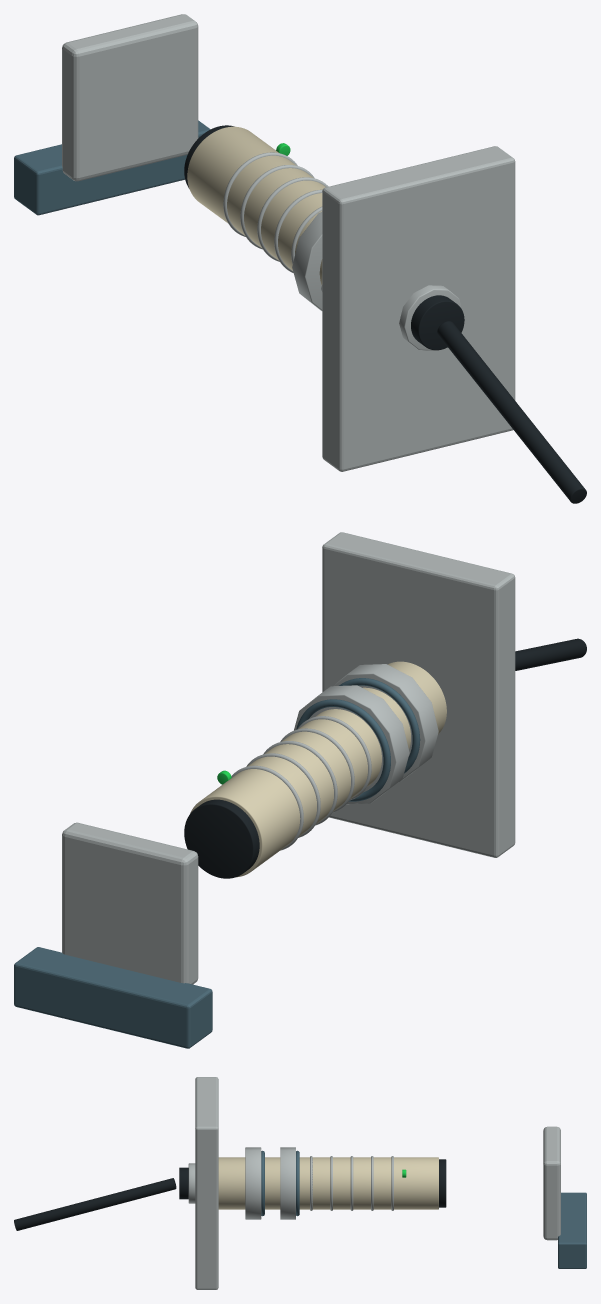
File: inductive_proximity_sensor_m18.glb
The picture shows the model from 3 angles, top to bottom: view 1: azimuth 30°, elevation 25°; view 2: azimuth 150°, elevation 25°; view 3: azimuth 270°, elevation 25°; orthographic projection. The views are drawn at different scales.
Parts seen in each view (by area): view 1: L_BRACKET, METAL_TARGET, SENSOR_threaded_barrel, TARGET_bracket, SENSOR_cable, LOCKNUT_0.12, REAR_M12_body, REAR_M12_nut; view 2: L_BRACKET, METAL_TARGET, SENSOR_threaded_barrel, TARGET_bracket, SENSING_face, LOCKNUT_0.12, LOCKNUT_0.0, LOCKWASHER_0.12, SENSOR_cable, LOCKWASHER_0.0; view 3: SENSOR_threaded_barrel, L_BRACKET, TARGET_bracket, SENSOR_cable, METAL_TARGET, LOCKNUT_0.0, LOCKNUT_0.12, SENSING_face, REAR_M12_body, REAR_M12_nut.
Boxes of the visible parts, <box> form: L_BRACKET: <box>322,146,515,471</box>; METAL_TARGET: <box>62,14,198,181</box>; SENSOR_threaded_barrel: <box>187,126,325,285</box>; TARGET_bracket: <box>14,120,210,215</box>; SENSOR_cable: <box>437,321,586,503</box>; LOCKNUT_0.12: <box>292,211,322,310</box>; REAR_M12_body: <box>411,295,464,350</box>; REAR_M12_nut: <box>399,285,461,350</box>; L_BRACKET: <box>322,532,515,857</box>; METAL_TARGET: <box>62,822,198,984</box>; SENSOR_threaded_barrel: <box>190,661,446,877</box>; TARGET_bracket: <box>14,947,212,1048</box>; SENSING_face: <box>184,799,259,878</box>; LOCKNUT_0.12: <box>294,685,409,804</box>; LOCKNUT_0.0: <box>332,664,438,781</box>; LOCKWASHER_0.12: <box>296,699,390,801</box>; SENSOR_cable: <box>515,638,586,670</box>; LOCKWASHER_0.0: <box>339,678,420,773</box>; SENSOR_threaded_barrel: <box>218,1157,438,1209</box>; L_BRACKET: <box>195,1077,218,1289</box>; TARGET_bracket: <box>558,1192,586,1268</box>; SENSOR_cable: <box>14,1178,176,1230</box>; METAL_TARGET: <box>543,1126,560,1240</box>; LOCKNUT_0.0: <box>245,1147,261,1219</box>; LOCKNUT_0.12: <box>280,1147,295,1219</box>; SENSING_face: <box>439,1159,446,1207</box>; REAR_M12_body: <box>179,1167,188,1199</box>; REAR_M12_nut: <box>188,1163,195,1203</box>.
Size of the model in its own units: 0.42 by 0.62 by 1.98.
